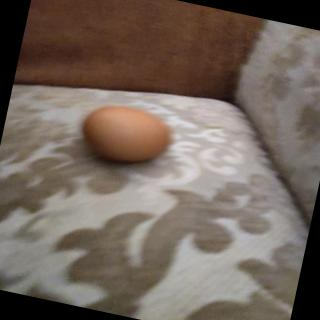Telur: (79, 99, 177, 172)
